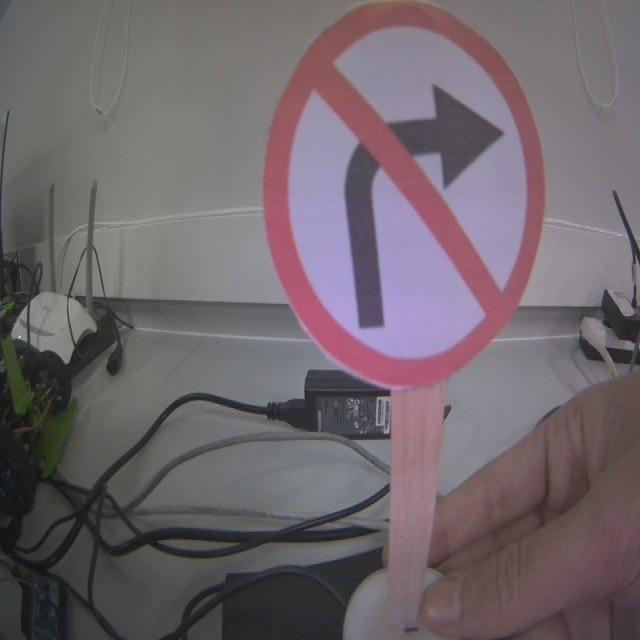Dilarang Belok Kanan: (261, 1, 544, 390)
